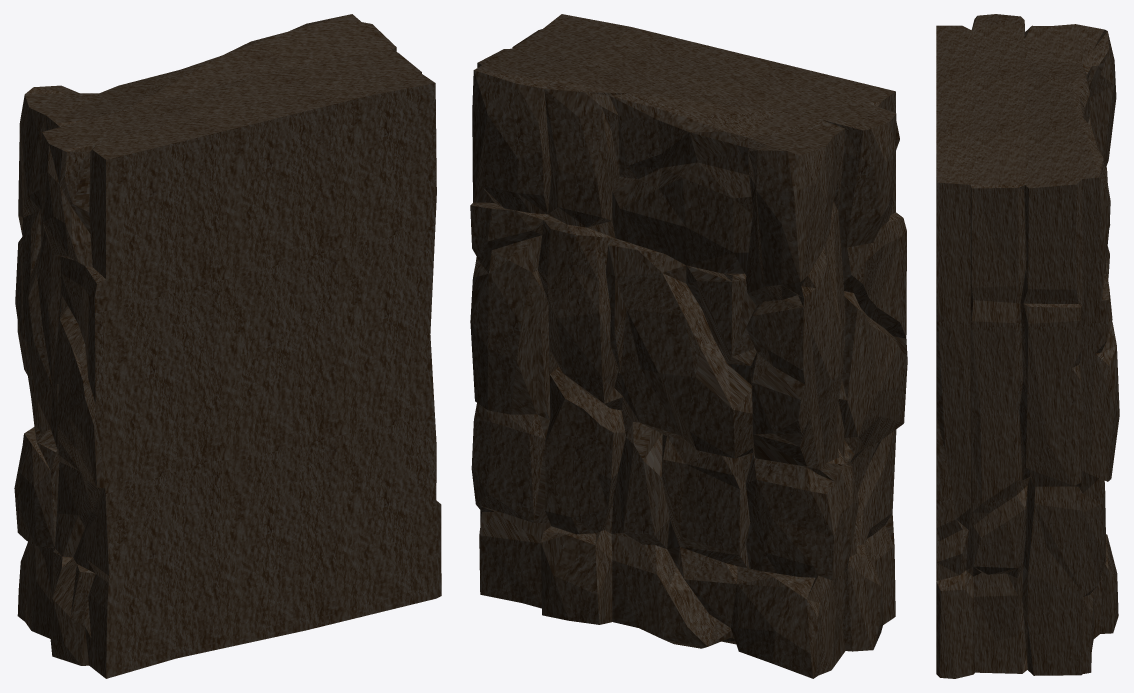
File: cave-wall2_bkp.glb
The picture shows the model from 3 angles, left to right: view 1: azimuth 30°, elevation 25°; view 2: azimuth 150°, elevation 25°; view 3: azimuth 270°, elevation 25°; orthographic projection. The views are drawn at different scales.
Visible parts, largest first — view 1: Cube; view 2: Cube; view 3: Cube.
Boxes of the visible parts, x1,y1,x2,y2 form: Cube: (14,14,441,678); Cube: (470,14,907,678); Cube: (936,14,1119,678).
Bounding box in the file's own units: 4.5 × 6.11 × 2.02.
Materials: 1 (1 with a texture image).
